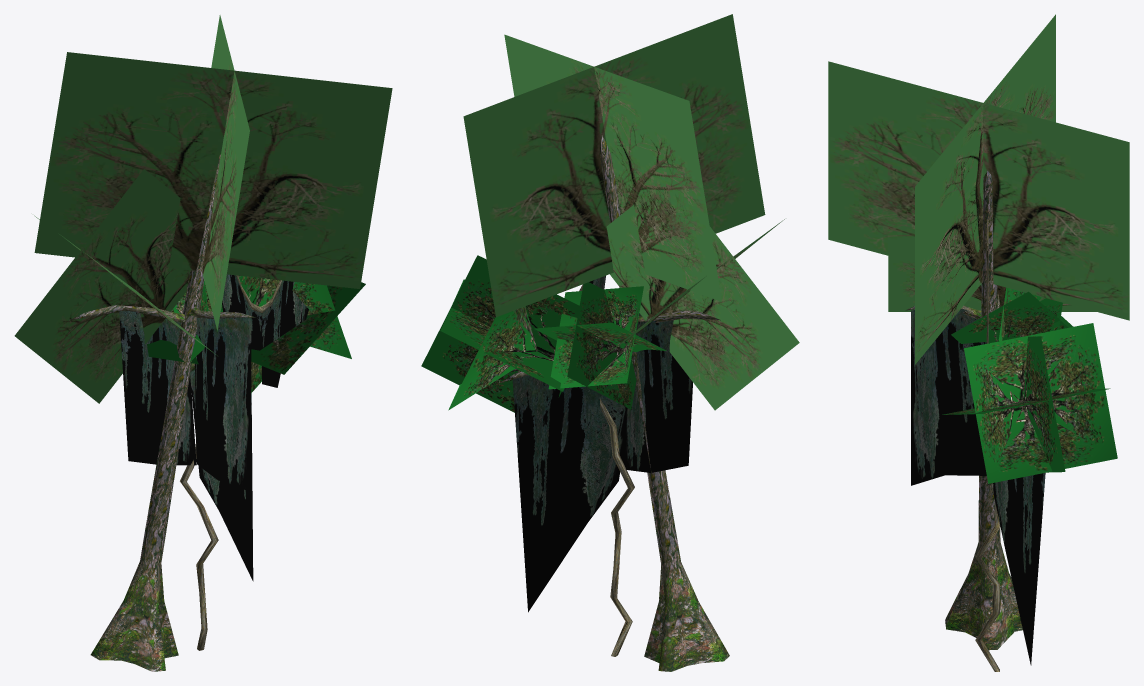
File: decd_mosstreeflaredtilted_l1.fbx
3 views of the same model, side by side, from view 1: azimuth 30°, elevation 25°; view 2: azimuth 150°, elevation 25°; view 3: azimuth 270°, elevation 25° (orthographic).
Parts seen in each view (by area): view 1: mesh_node; view 2: mesh_node; view 3: mesh_node.
Boxes of the visible parts, x1=… form: mesh_node: x1=14, y1=15, x2=392, y2=671; mesh_node: x1=421, y1=14, x2=799, y2=671; mesh_node: x1=828, y1=14, x2=1129, y2=671.
Bounding box in the file's own units: 10.08 × 16.78 × 7.57.
